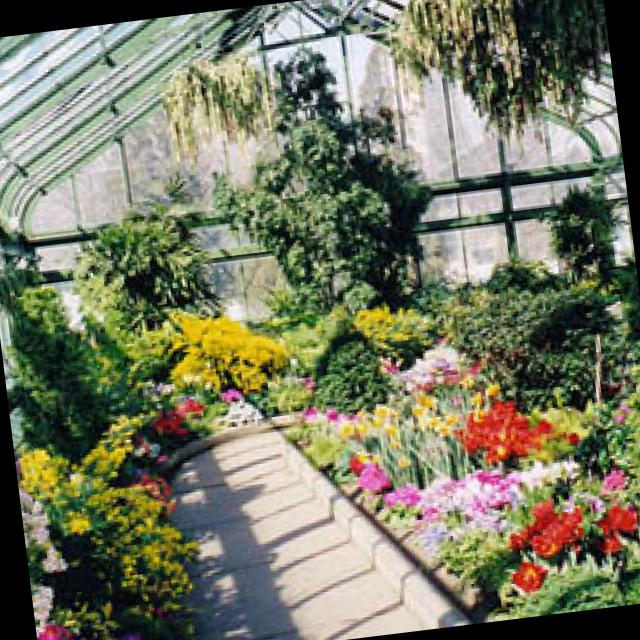plants: (440, 178, 640, 411), (206, 115, 431, 308), (17, 375, 193, 615), (355, 456, 636, 603), (0, 268, 178, 465), (391, 0, 604, 137), (291, 359, 503, 490), (69, 185, 214, 327), (493, 478, 640, 614), (243, 287, 350, 412), (108, 395, 210, 507), (160, 307, 295, 388), (166, 58, 281, 150), (446, 397, 603, 464), (38, 578, 197, 640), (567, 359, 640, 475), (307, 320, 392, 411), (18, 482, 68, 634), (379, 330, 477, 400), (343, 306, 442, 368), (165, 376, 264, 429), (363, 260, 463, 309)
